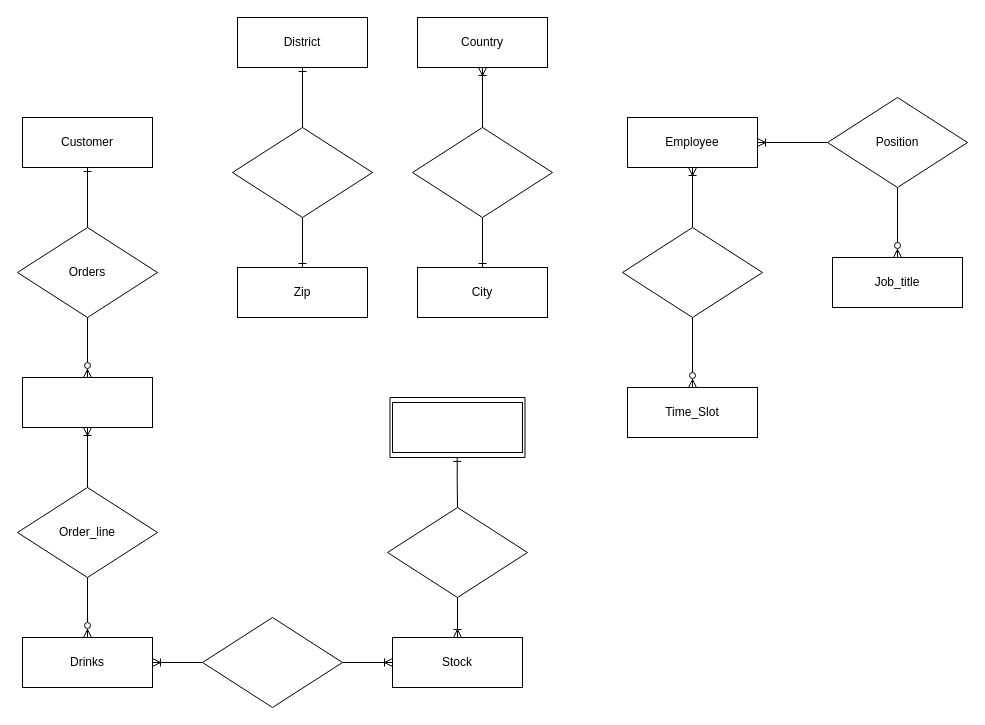
Some shapes in this 985 by 725 pixel diagram are drawn without their labels. The shapes that lost their labels are listed below. From the top down, each one's centre as x and y in pixels, then its label:
point 302,172: zip_district
point 482,172: city_country
point 692,272: Shift
point 87,402: Order
point 457,427: Supplier
point 457,552: Supplies
point 272,662: Recipe
